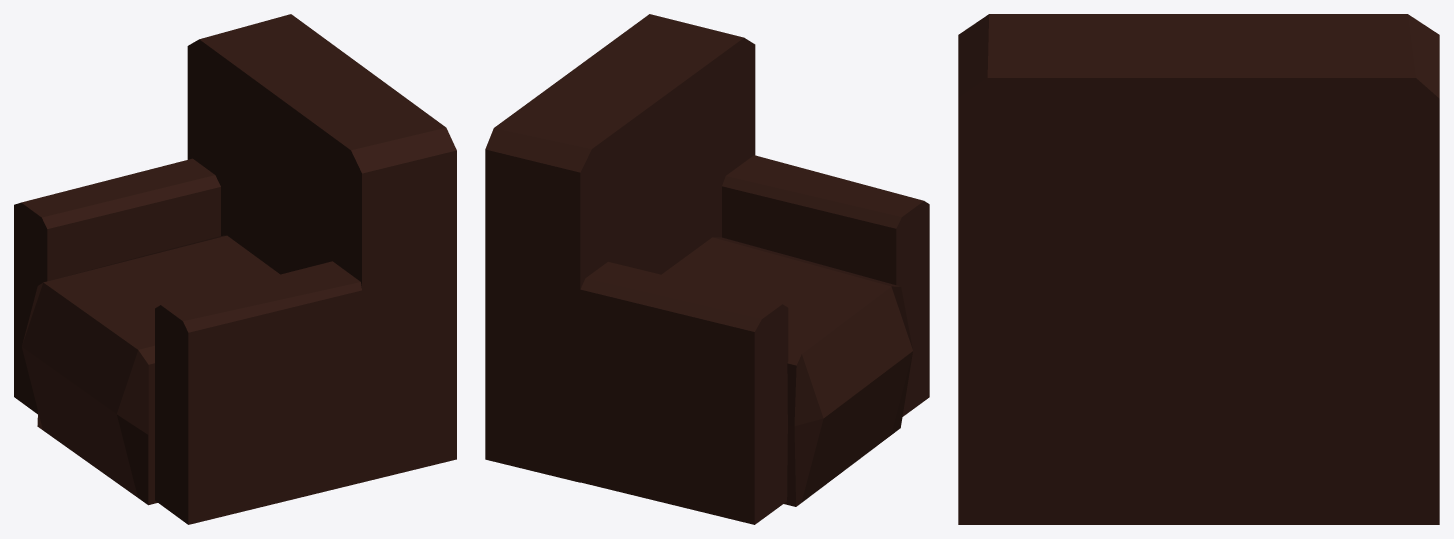
File: armchair.obj
The picture shows the model from 3 angles, left to right: view 1: azimuth 30°, elevation 25°; view 2: azimuth 150°, elevation 25°; view 3: azimuth 270°, elevation 25°; orthographic projection. The views are drawn at different scales.
Parts seen in each view (by area): view 1: group1761739366, group201205049, group1021415585, group628430949; view 2: group1761739366, group628430949, group1021415585, group201205049; view 3: group1761739366.
Boxes of the visible parts, <box> form: group1761739366: <box>187,14,456,482</box>; group201205049: <box>155,261,361,524</box>; group1021415585: <box>22,235,279,505</box>; group628430949: <box>14,158,220,414</box>; group1761739366: <box>485,14,755,482</box>; group628430949: <box>580,262,788,524</box>; group1021415585: <box>661,237,912,506</box>; group201205049: <box>722,155,929,416</box>; group1761739366: <box>958,14,1439,524</box>.
Bounding box in the file's own units: 0.4148 × 0.4352 × 0.419.
